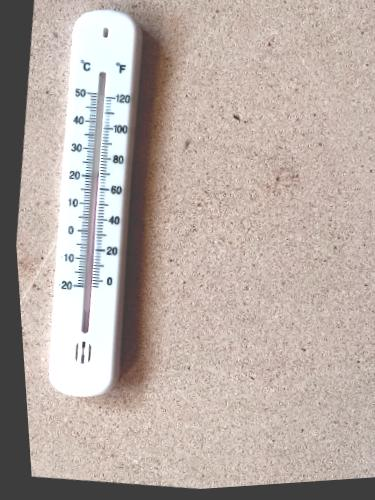thermo: (44, 10, 150, 397)
